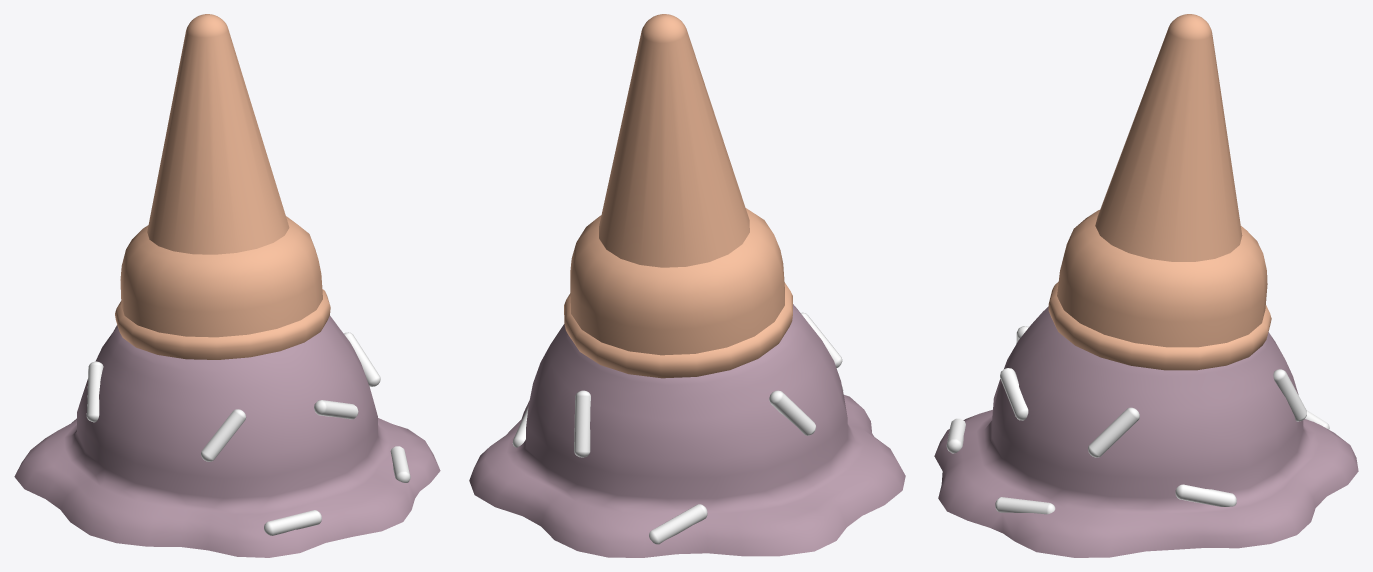
File: SM_Icecream_Cone.fbx
3 renders of one model, left to right at view 1: azimuth 30°, elevation 25°; view 2: azimuth 150°, elevation 25°; view 3: azimuth 270°, elevation 25°, orthographic. The views are drawn at different scales.
Visible parts, largest first — view 1: SM_Icecream_Cone; view 2: SM_Icecream_Cone; view 3: SM_Icecream_Cone.
Boxes of the visible parts, x1,y1,x2,y2 form: SM_Icecream_Cone: (14,14,440,557); SM_Icecream_Cone: (469,14,905,557); SM_Icecream_Cone: (934,14,1358,557).
Bounding box in the file's own units: 420 × 515 × 435.
